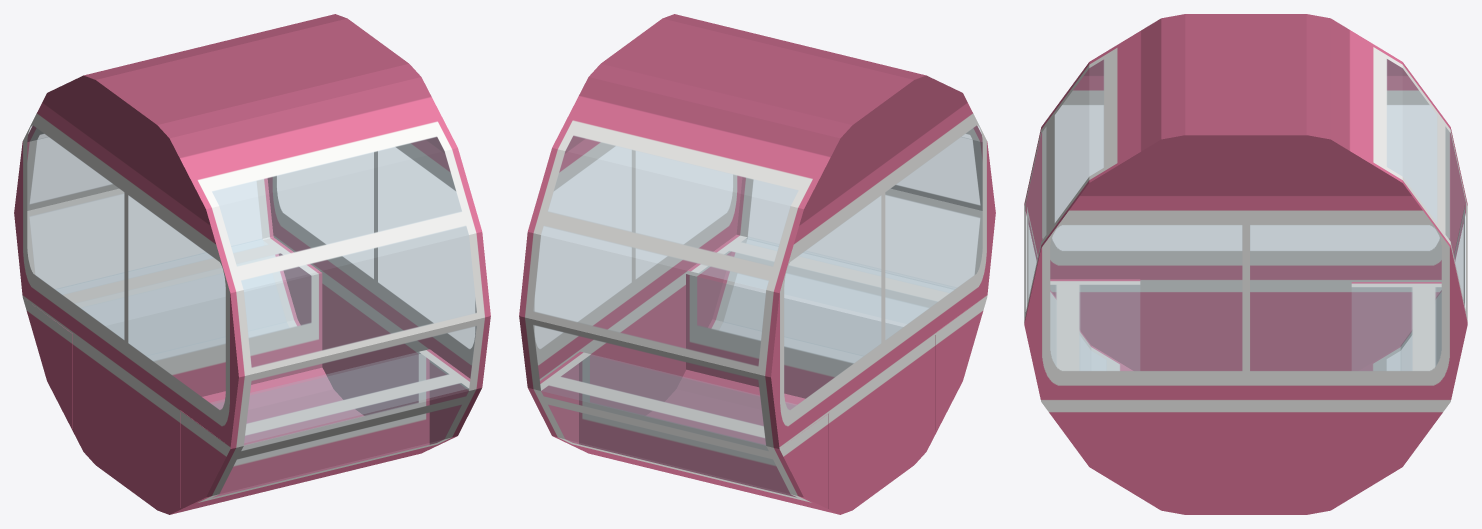
The model's file is FerrisCabinTex.glb.
3 views of the same model, side by side, from view 1: azimuth 30°, elevation 25°; view 2: azimuth 150°, elevation 25°; view 3: azimuth 270°, elevation 25° (orthographic).
Parts seen in each view (by area): view 1: FerrisCabinTex; view 2: FerrisCabinTex; view 3: FerrisCabinTex.
Boxes of the visible parts, x1=… form: FerrisCabinTex: x1=14, y1=14, x2=490, y2=514; FerrisCabinTex: x1=519, y1=14, x2=995, y2=514; FerrisCabinTex: x1=1024, y1=14, x2=1467, y2=514.
Bounding box in the file's own units: 1.3 × 1.89 × 2.
1 material, 1 textured.
